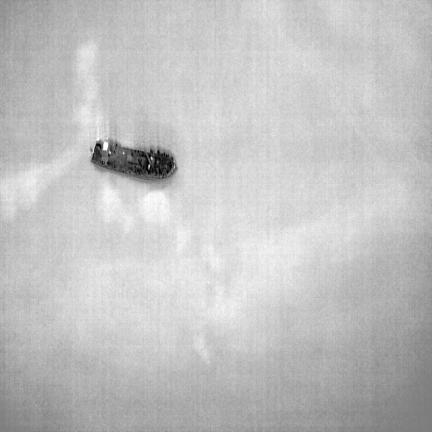flukeprints: (103, 187, 135, 231), (138, 192, 169, 226), (77, 42, 97, 79), (194, 330, 212, 362), (200, 246, 223, 271), (83, 78, 99, 99), (176, 228, 191, 250), (80, 105, 91, 129)
